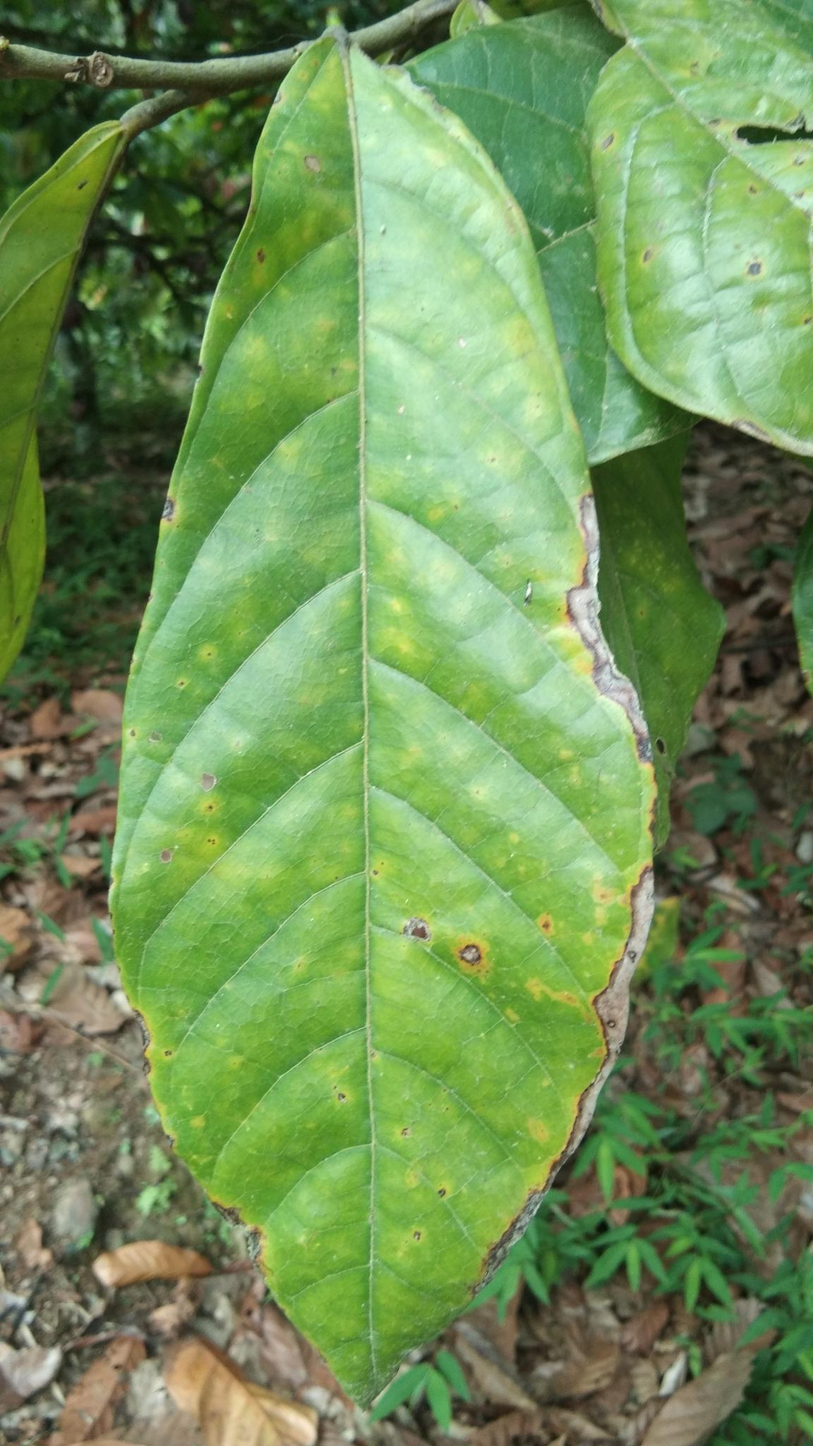Fosforo: (91, 19, 675, 1439)
